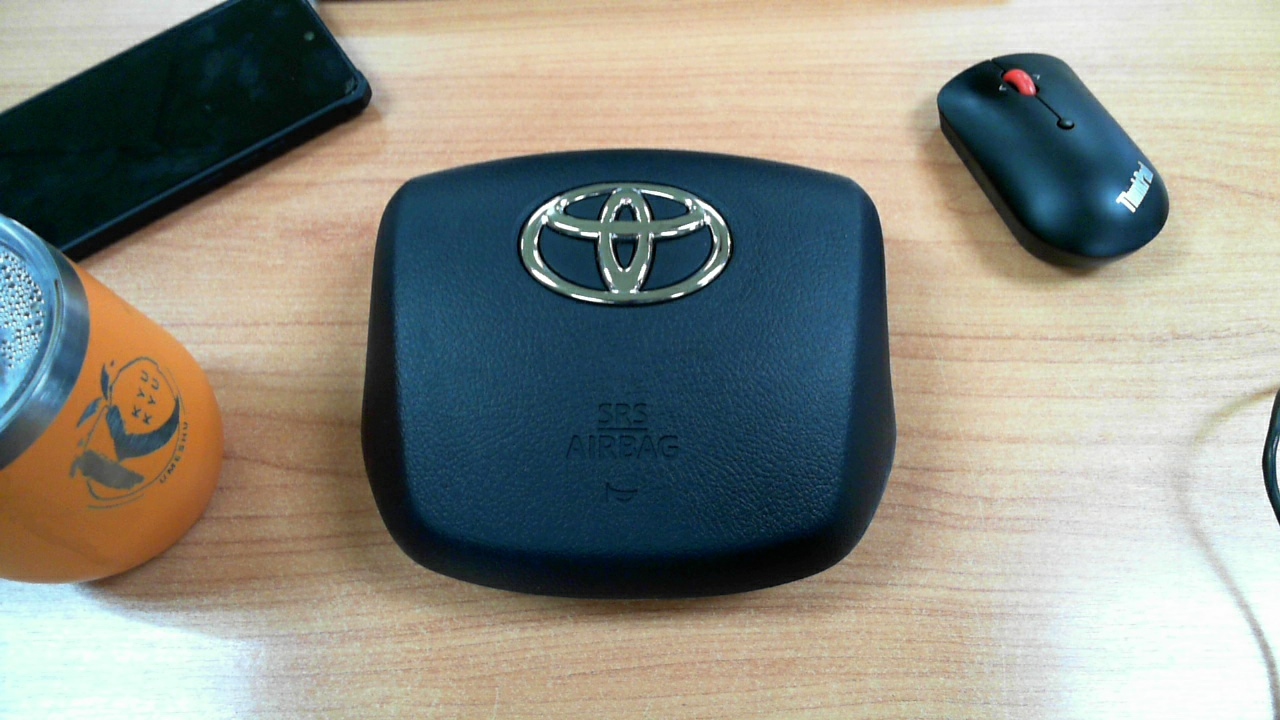Airbag: (316, 116, 931, 625)
